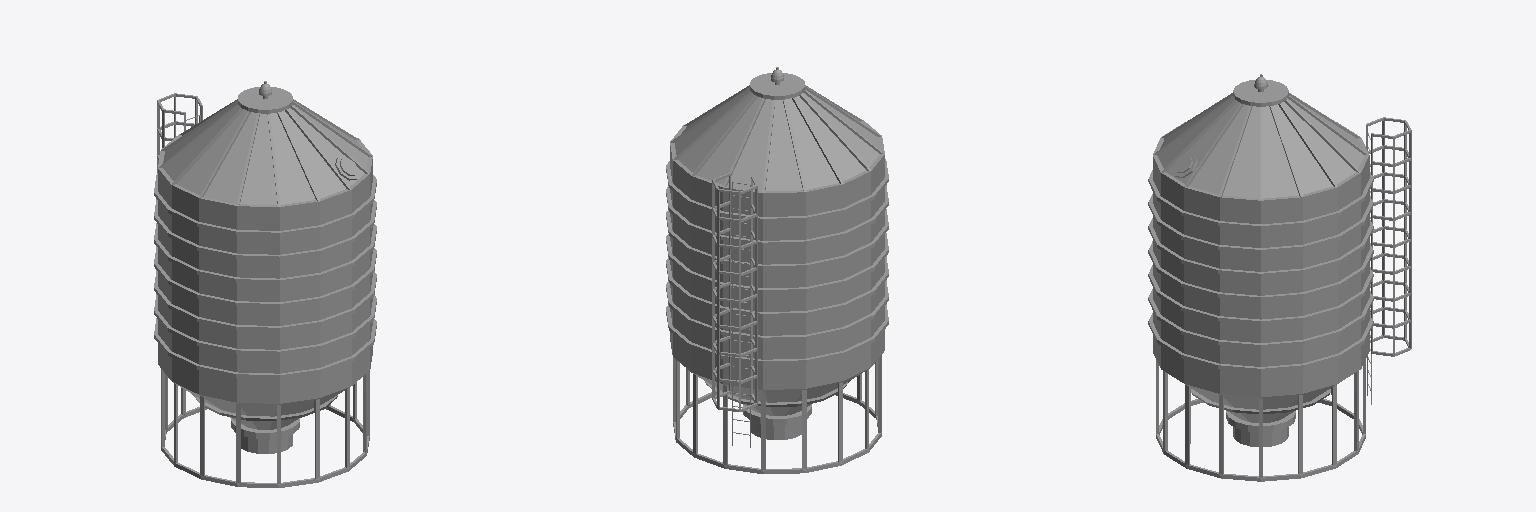
The model's file is silo.obj.
3 renders of one model, left to right at view 1: azimuth 30°, elevation 25°; view 2: azimuth 150°, elevation 25°; view 3: azimuth 270°, elevation 25°, orthographic.
Bounding box in the file's own units: 18.81 × 33.45 × 21.98.